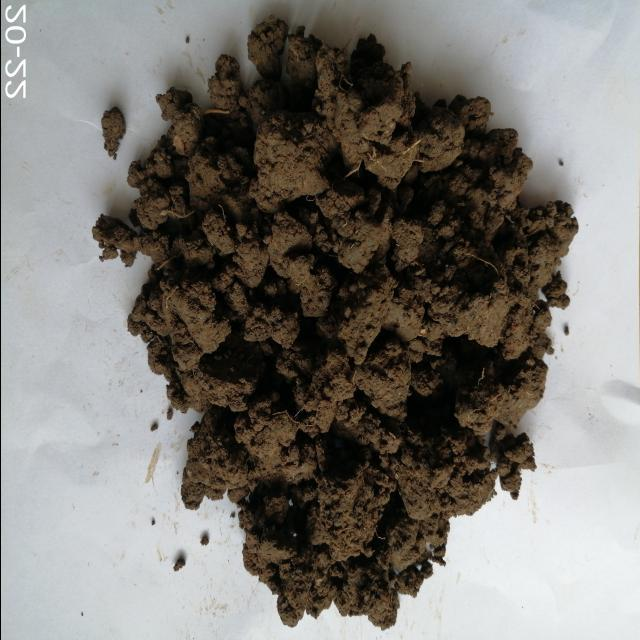soil: (178, 144, 508, 507)
